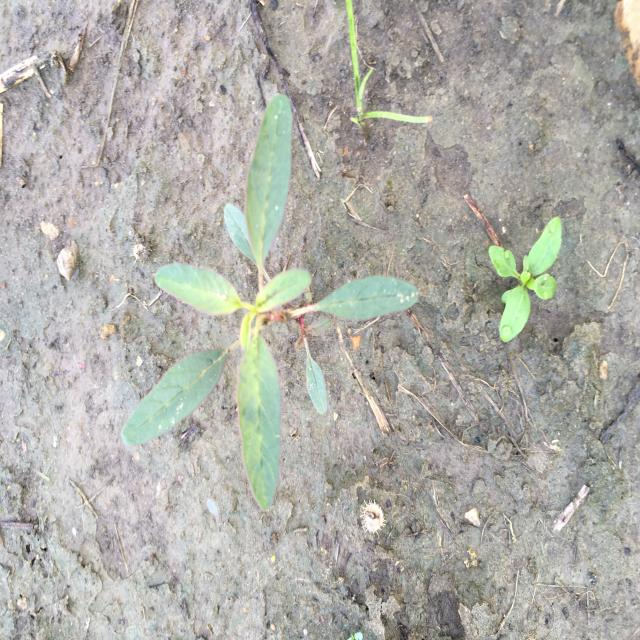Eclipta: (486, 215, 564, 342)
Waterhemp: (121, 88, 420, 514)
